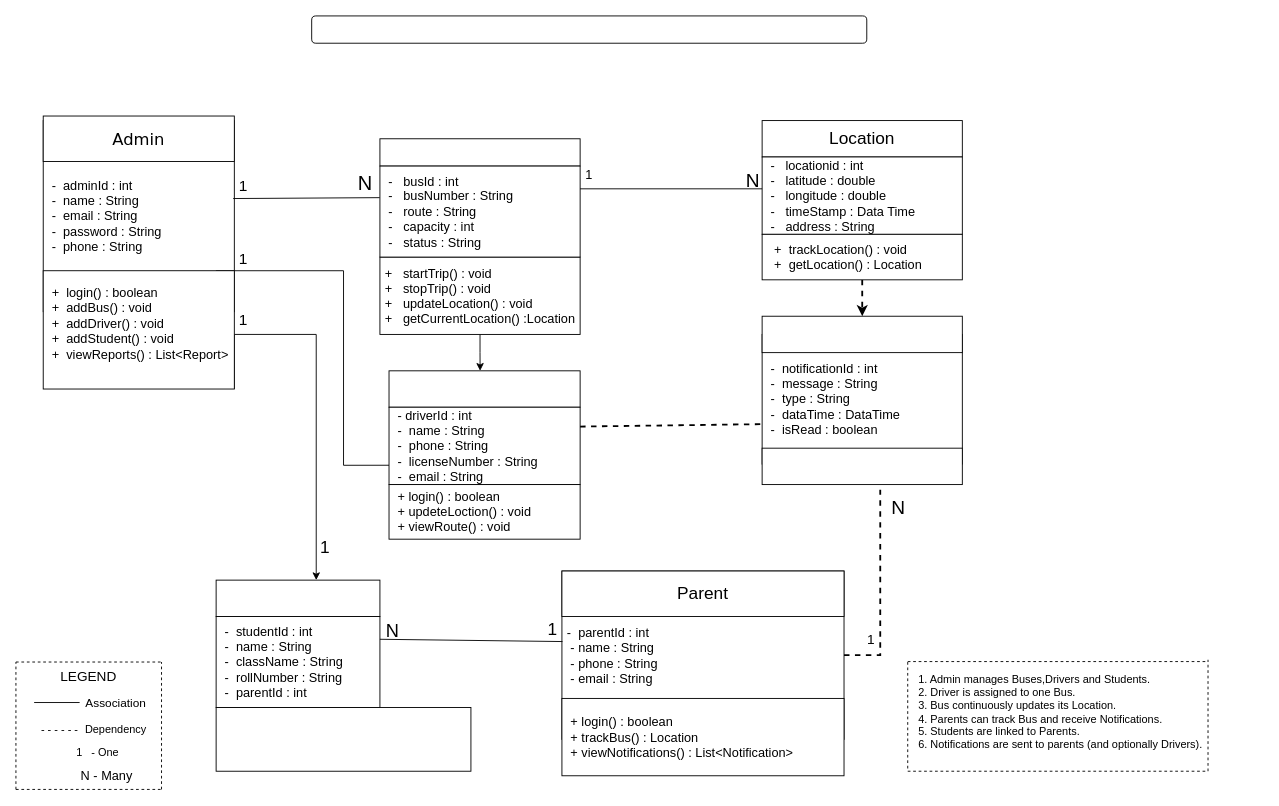
This 1279x806 diagram has some shape labels left out. Each missing label, with the centre of its shape:
"+ sendNotification() : void + markAsRead() : void" belongs at point 861,466.
"+ viewBusLocation() : Location + viewNotifications() : List<Notification>" belongs at point 343,739.
"Bus" belongs at point 479,152.
"Driver" belongs at point 484,388.
"Notification" belongs at point 861,334.
"SMART SCHOOL BUS SAFETY SYSTEM - CLASS DIAGRAM" belongs at point 589,29.
"Student" belongs at point 297,598.
